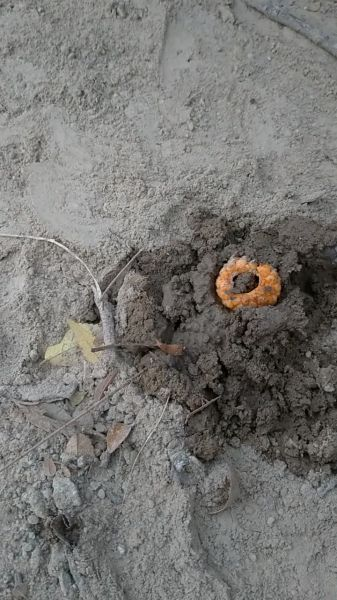eggs: (211, 254, 288, 313)
